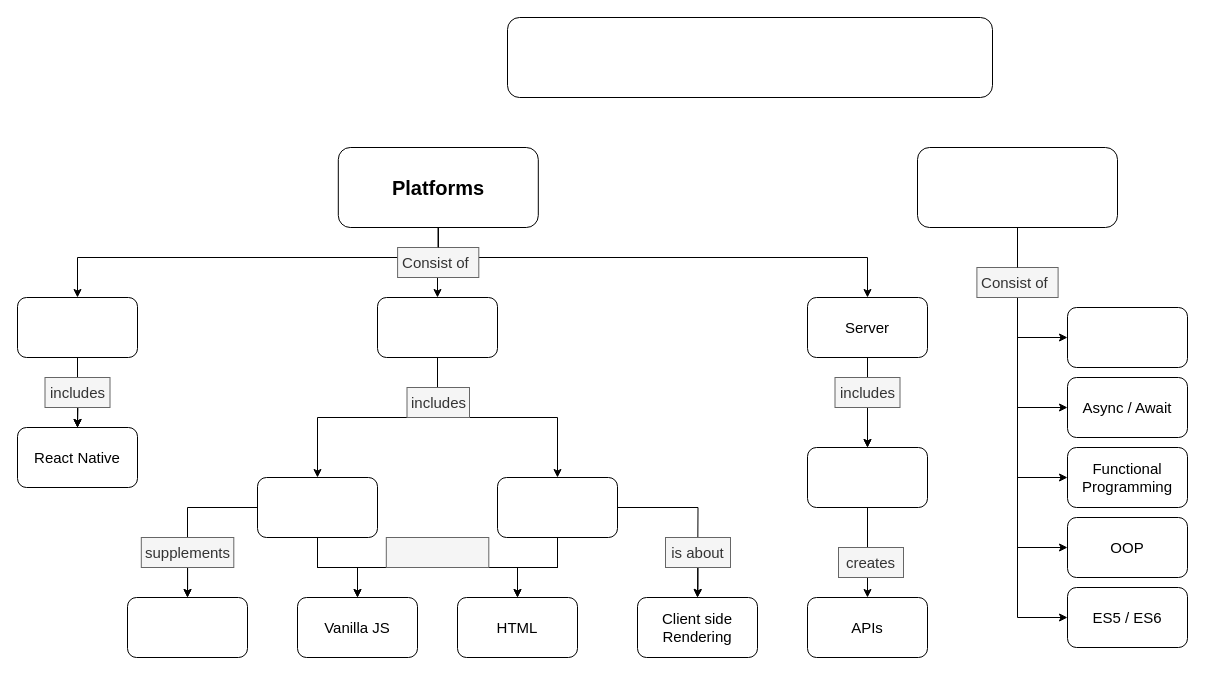
This 1205x675 diagram has some shape labels left out. Each missing label, with the centre of its shape:
Browser: the point at 437,327
composes of: the point at 437,552
Features: the point at 1017,187
Focus Question: The Ecosystem of JavaScript: the point at 749,57
jQuery: the point at 317,507
Moble: the point at 77,327
NodeJS: the point at 867,477
React / Vue / Angular: the point at 557,507
Server side Rendering: the point at 187,627
Single Thread: the point at 1127,337
